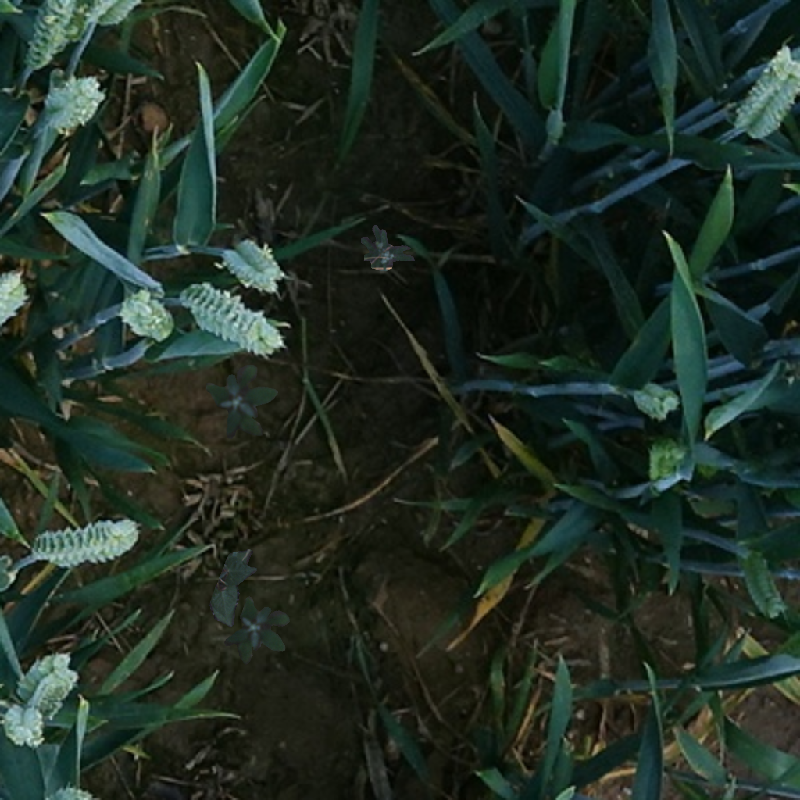spikelet: (181, 281, 285, 357), (733, 40, 800, 140), (30, 517, 138, 568), (14, 651, 78, 720), (39, 75, 102, 135), (24, 1, 76, 67), (223, 238, 285, 292), (121, 286, 175, 346), (742, 546, 786, 618), (644, 437, 698, 487), (1, 267, 32, 332), (632, 381, 681, 422), (2, 703, 43, 751), (85, 1, 140, 30)
weed: (206, 365, 278, 439), (204, 542, 263, 630), (216, 599, 289, 667), (358, 219, 416, 275)
